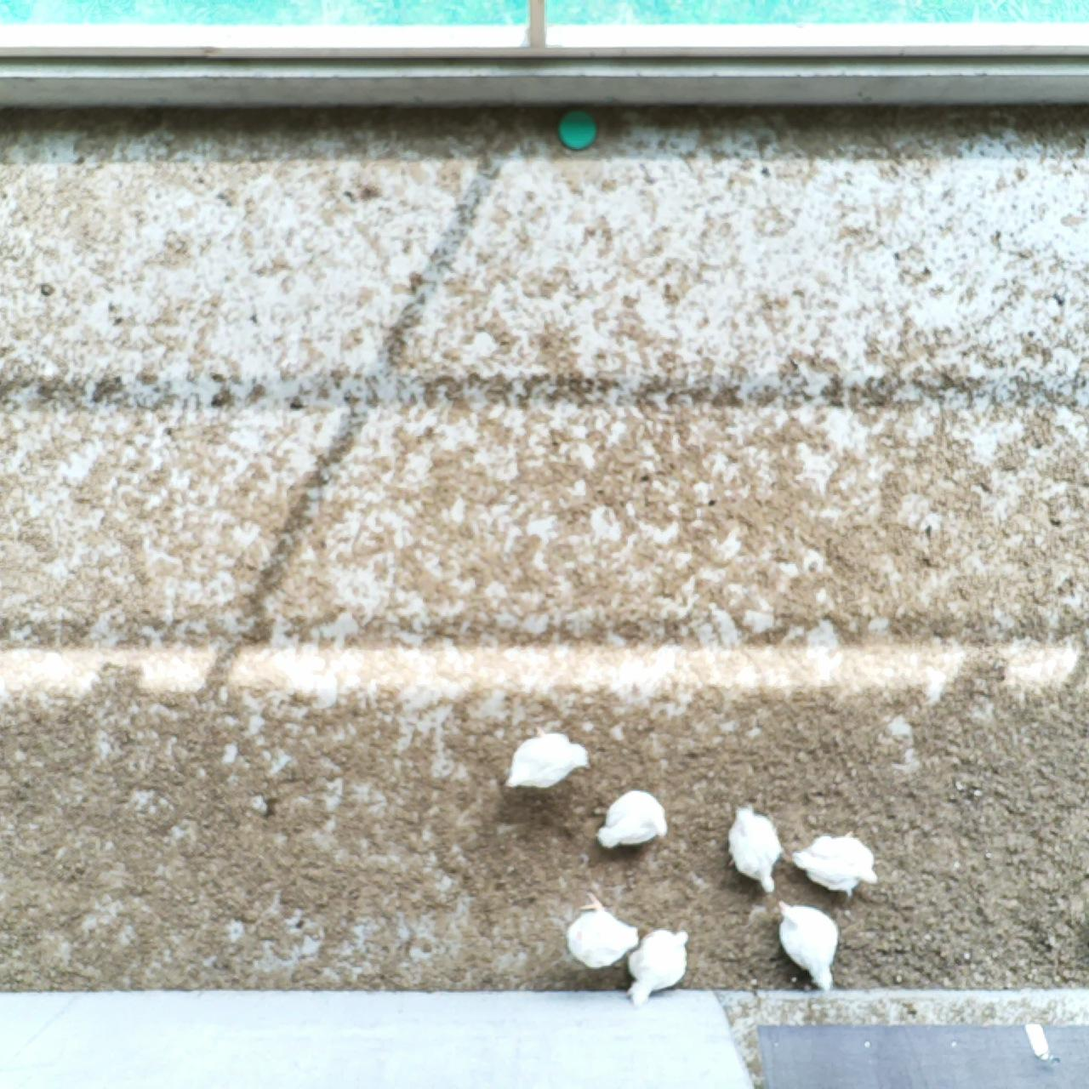chicken: (787, 826, 885, 901), (502, 720, 592, 801), (770, 897, 845, 994), (721, 801, 788, 899), (563, 889, 641, 973), (624, 925, 691, 1007), (594, 783, 672, 852)
